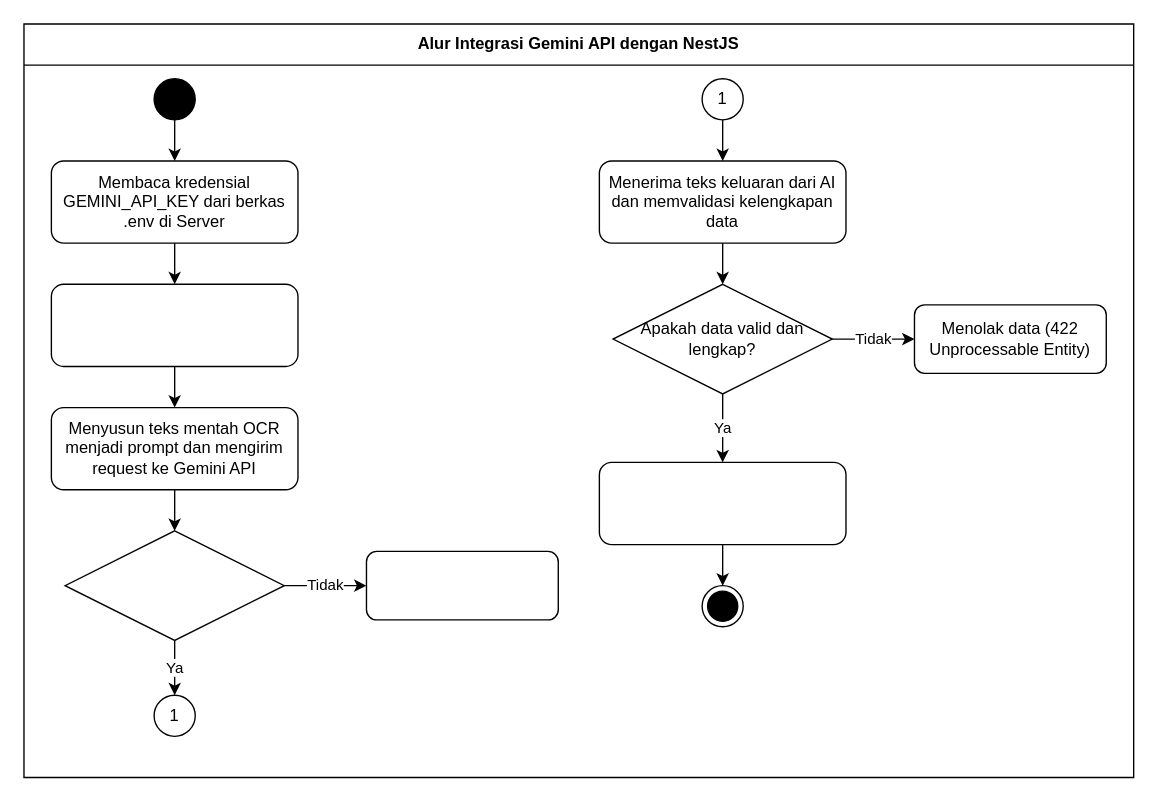
Image size: 1158x801. Some labels were removed from this diagram. Each missing label, with the box of its shape:
Apakah API merespons dalam batas waktu (timeout)?: (64, 530, 284, 640)
Konversi hasil tervalidasi menjadi format JSON terstruktur: (598, 461, 846, 545)
Memutus koneksi (503 Service Unavailable): (365, 550, 558, 620)
Menginisialisasi pustaka Google Gen AI: (50, 283, 298, 366)
